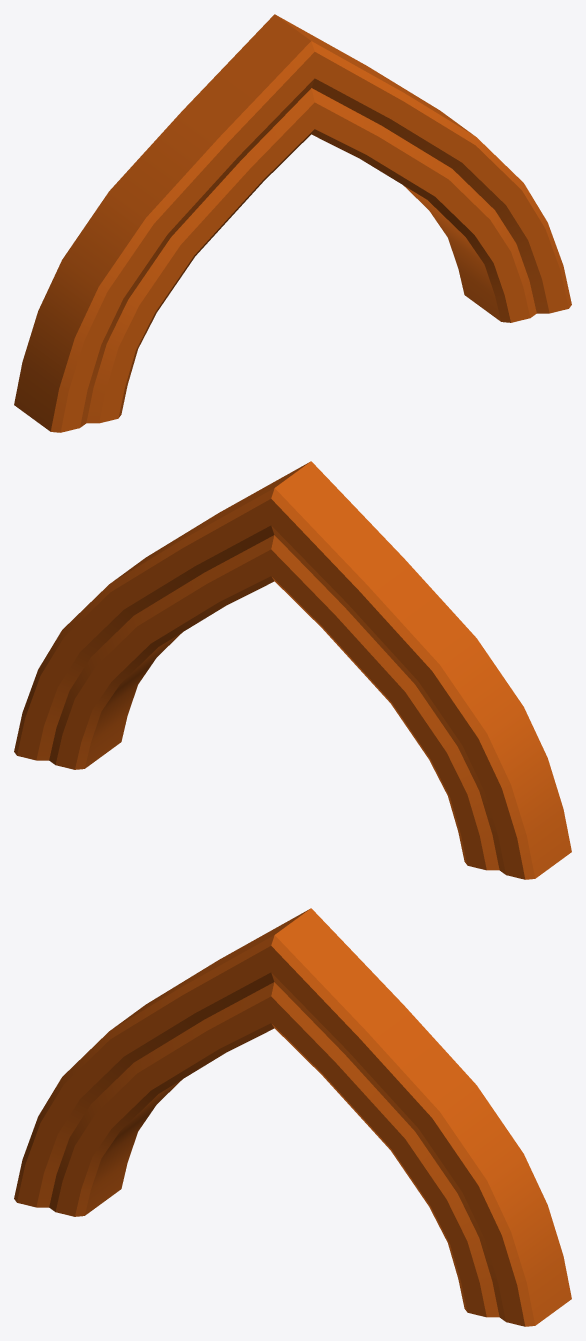
Rendered from dfk_arch_0.fbx.
3 renders of one model, top to bottom at view 1: azimuth 30°, elevation 25°; view 2: azimuth 150°, elevation 25°; view 3: azimuth 330°, elevation 25°, orthographic.
Parts seen in each view (by area): view 1: Arch_1a; view 2: Arch_1a; view 3: Arch_1a.
Part boxes in pixels (box(x1,y1,x2,y2)): Arch_1a: box(14, 14, 571, 432); Arch_1a: box(14, 461, 571, 879); Arch_1a: box(14, 908, 571, 1326).
Size of the model in its own units: 5 by 3 by 0.7242.
